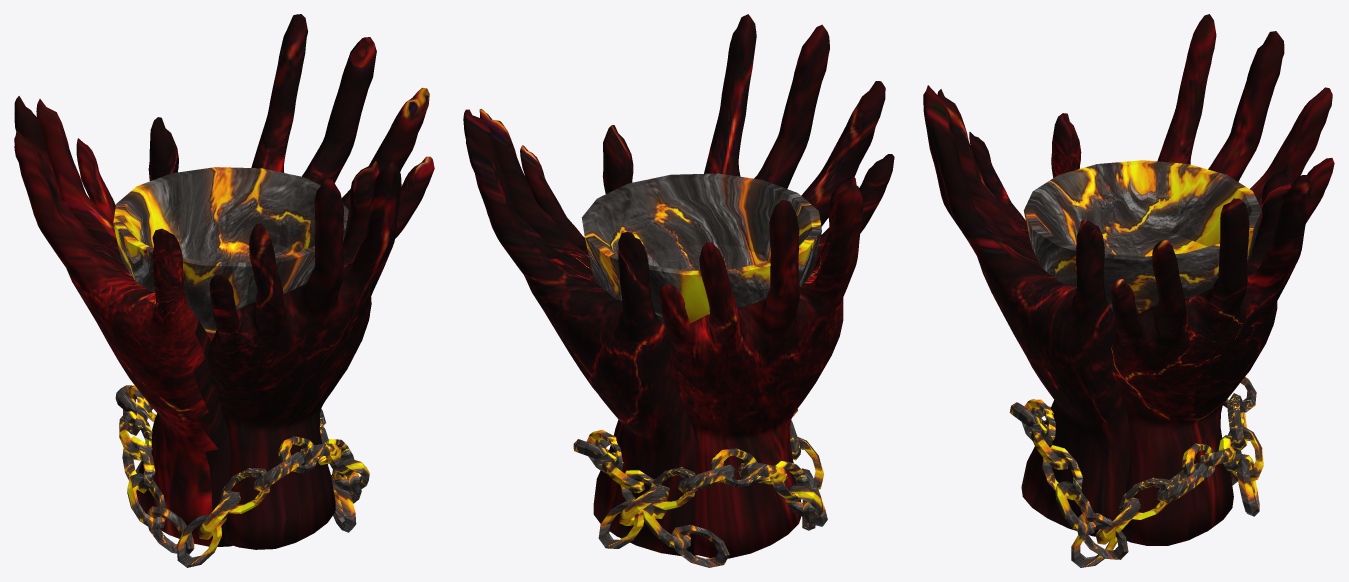
Rendered from Open_Caliz.fbx.
The picture shows the model from 3 angles, left to right: view 1: azimuth 30°, elevation 25°; view 2: azimuth 150°, elevation 25°; view 3: azimuth 270°, elevation 25°; orthographic projection.
Visible parts, largest first — view 1: PolySphere, Sphere.003, Torus.003; view 2: PolySphere, Sphere.003, Torus.003; view 3: PolySphere, Sphere.003, Torus.003.
Part boxes in pixels (x1,y1,x2,y2): PolySphere: (14,14,434,549); Sphere.003: (113,167,348,333); Torus.003: (115,385,369,567); PolySphere: (463,14,894,558); Sphere.003: (581,173,821,329); Torus.003: (573,409,827,567); PolySphere: (923,14,1334,545); Sphere.003: (1023,160,1261,313); Torus.003: (1009,377,1263,567).
Bounding box in the file's own units: 131 × 137 × 118.
